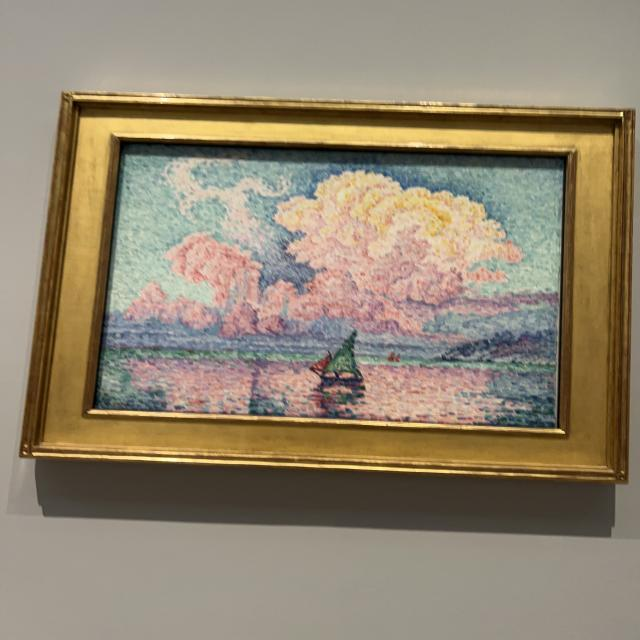sunrise: (96, 142, 566, 427)
